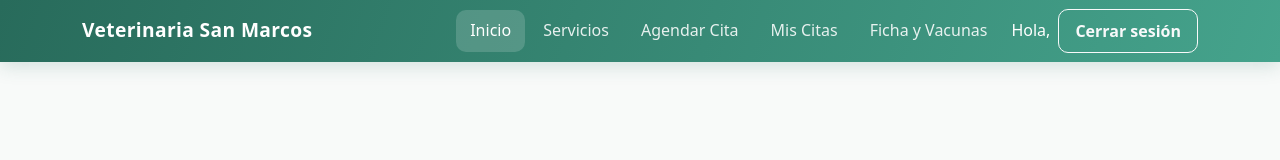
Scenario: Navbar › cerrar sesión borra la sesión, avisa el cambio y vuelve a mostrar Iniciar Sesión
Click the button "Cerrar sesión". click: coordinates (1128, 31)
box: [1058,9,1198,53]
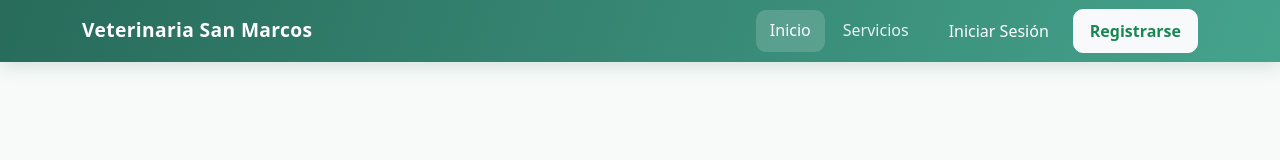
Now the link "Iniciar Sesión" is shown, box [949,20,1049,42]
